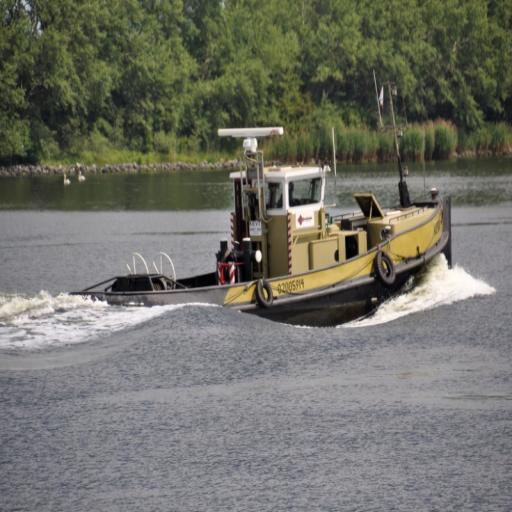tugboat: (67, 120, 459, 347)
